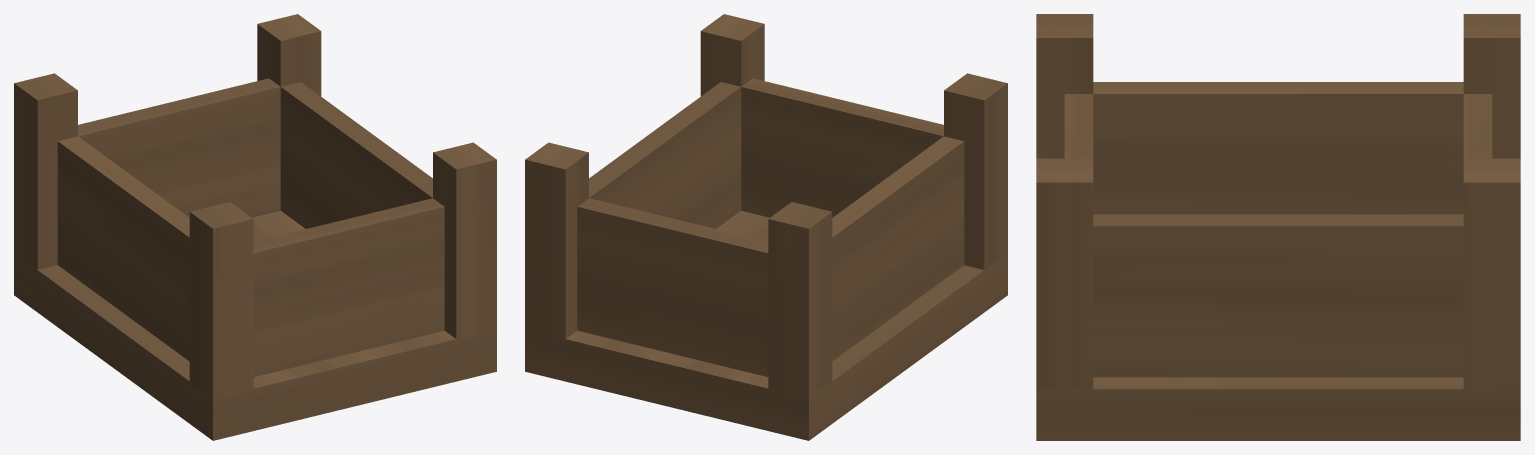
Rendered from crate.glb.
The picture shows the model from 3 angles, left to right: view 1: azimuth 30°, elevation 25°; view 2: azimuth 150°, elevation 25°; view 3: azimuth 270°, elevation 25°; orthographic projection. The views are drawn at different scales.
Parts seen in each view (by area): view 1: Supply Crate; view 2: Supply Crate; view 3: Supply Crate.
Part boxes in pixels (bbox=[...]): Supply Crate: bbox=[14, 14, 496, 440]; Supply Crate: bbox=[525, 14, 1007, 440]; Supply Crate: bbox=[1036, 14, 1520, 440].
Size of the model in its own units: 0.98 by 0.7 by 1.19.
Materials: 1 (1 with a texture image).
